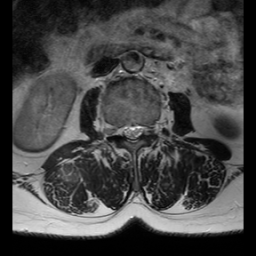CCS_stenosis: (129, 116, 137, 148)
LFS_normal: (144, 116, 152, 141)
LLS_normal: (137, 116, 144, 144)
RFS_normal: (112, 117, 120, 144)
RLS_normal: (120, 117, 129, 144)
